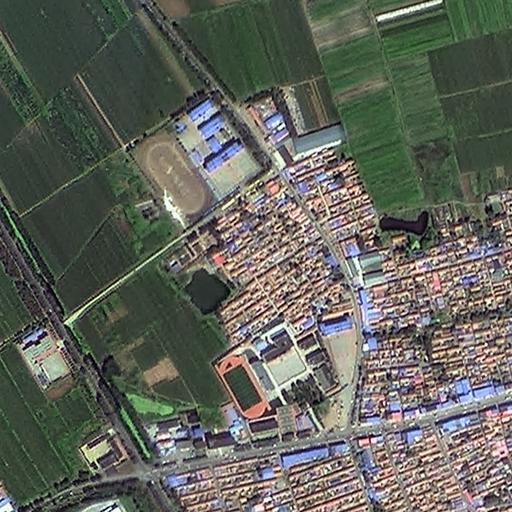school: (129, 93, 270, 230), (209, 318, 336, 446), (318, 309, 360, 388)
